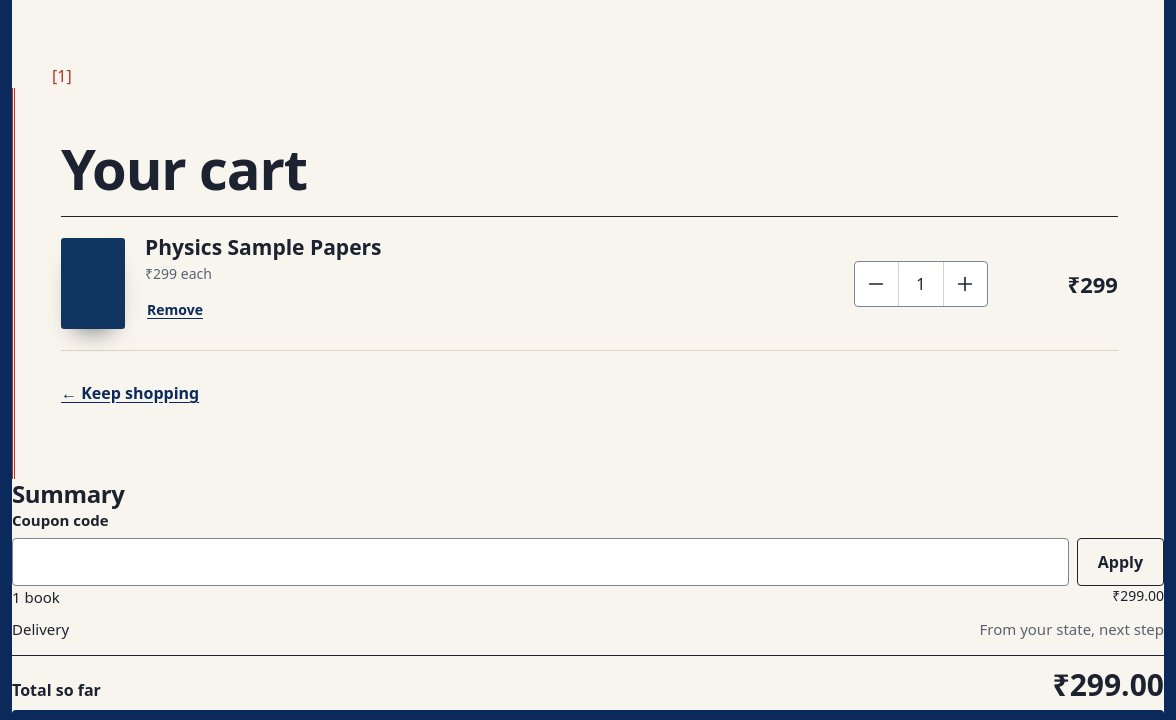
it: the cart's coupon › shows the discount the API answers
Type "welcome10" into the field labelled "Coupon code".
click(540, 562); type("welcome10")  # box [12,538,1069,586]
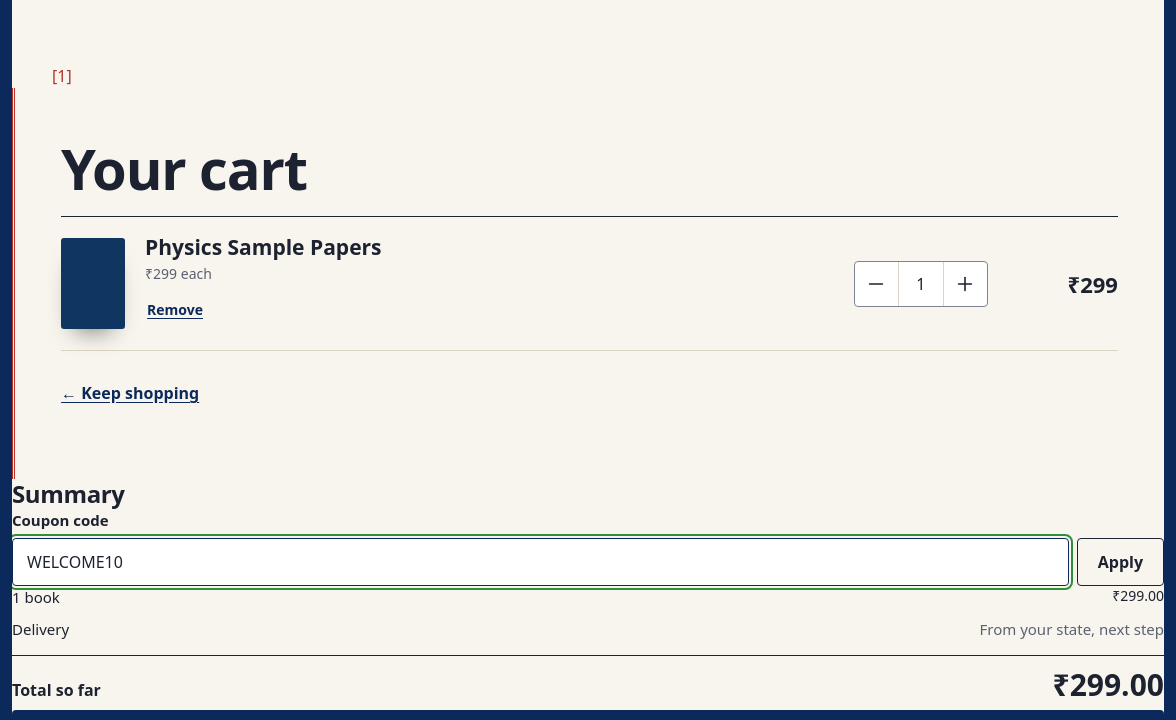
Click the button "Apply".
click(1120, 562)  # box [1077,538,1164,586]
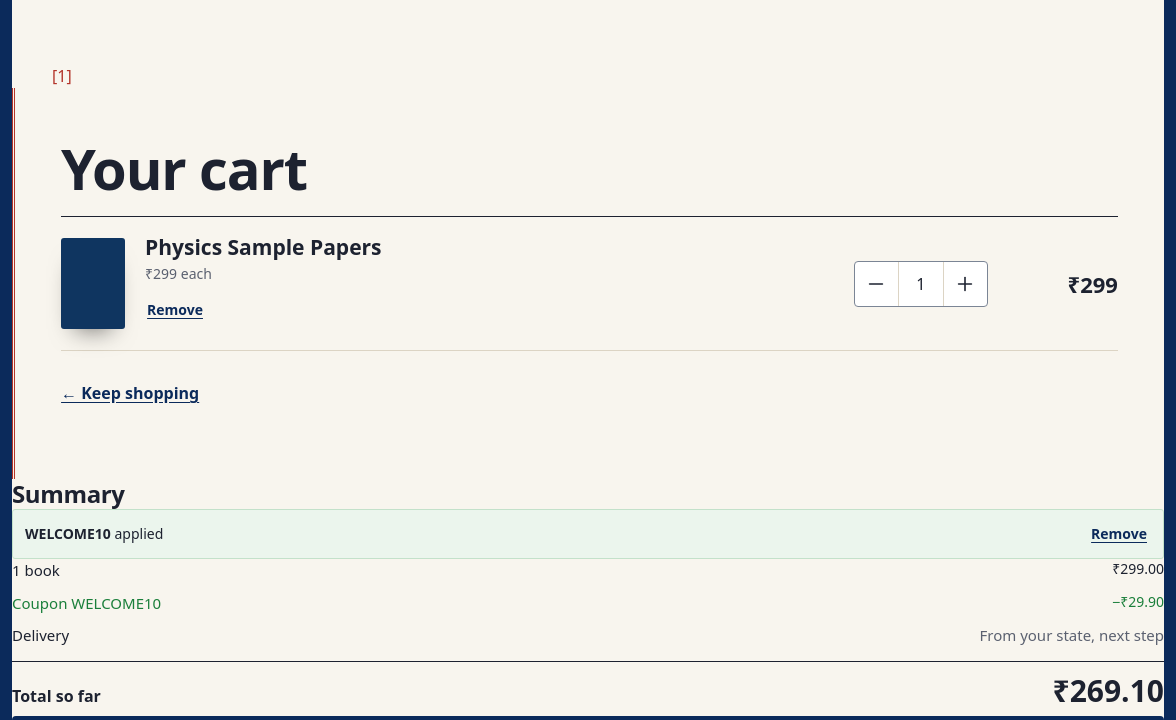
Result: the text "Coupon WELCOME10" is shown at [12,592,161,614]
Result: the text "−₹29.90" is shown at [1112,592,1164,614]
Result: the text "₹269.10" is shown at [1052,676,1164,706]
